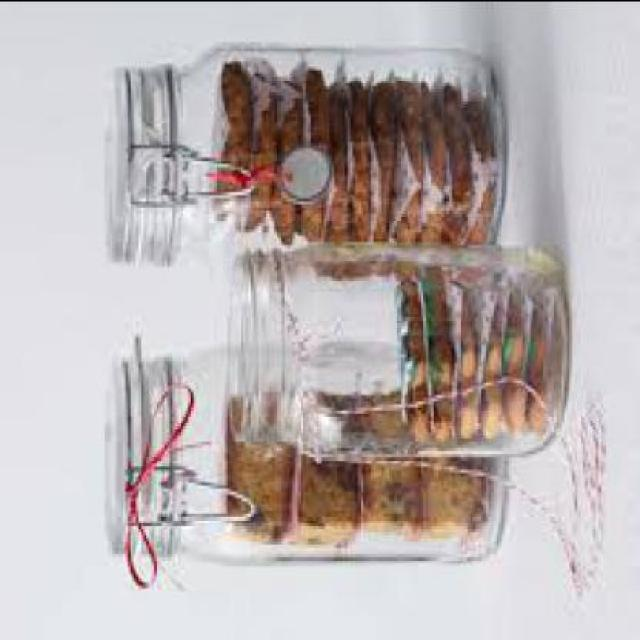BIODEGRADABLE: (397, 393, 483, 541), (287, 393, 358, 550), (347, 396, 421, 538), (392, 274, 454, 440), (222, 399, 282, 547), (238, 65, 274, 244), (212, 62, 252, 220), (290, 72, 327, 240), (389, 81, 420, 247), (272, 78, 300, 247), (366, 84, 394, 247), (523, 303, 554, 443), (438, 84, 464, 241), (418, 84, 442, 247), (321, 78, 342, 256), (496, 302, 521, 450), (476, 312, 502, 453), (342, 75, 363, 247), (465, 96, 489, 244), (454, 293, 478, 438)
GLASS: (104, 44, 507, 274), (104, 356, 504, 569), (225, 247, 566, 462)
